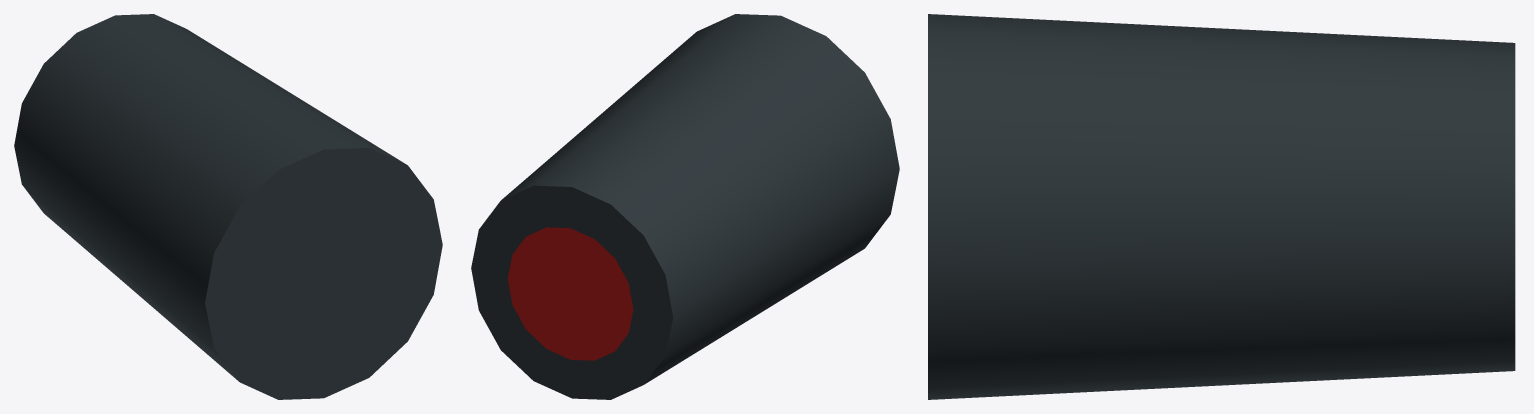
Rendered from cl-heavy-medium-laser-round.glb.
3 views of the same model, side by side, from view 1: azimuth 30°, elevation 25°; view 2: azimuth 150°, elevation 25°; view 3: azimuth 270°, elevation 25° (orthographic). The views are drawn at different scales.
Visible parts, largest first — view 1: mount; view 2: mount; view 3: mount.
Boxes of the visible parts, left/top/right/bottom form: mount: left=14, top=14, right=442, bottom=399; mount: left=471, top=14, right=899, bottom=399; mount: left=928, top=14, right=1515, bottom=399.
Size of the model in its own units: 2.5 by 2.5 by 3.83.
